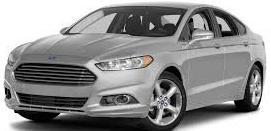Cars: (6, 4, 267, 131)
